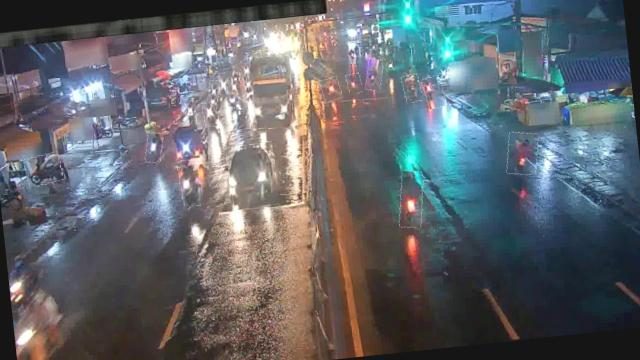Bike: (396, 170, 427, 229), (504, 130, 540, 176), (23, 153, 64, 187), (178, 159, 204, 208), (422, 75, 447, 109), (364, 58, 384, 91), (144, 132, 164, 164), (402, 73, 422, 103), (319, 77, 342, 102), (202, 101, 220, 127), (112, 116, 140, 132), (185, 99, 198, 126), (346, 74, 362, 94), (208, 80, 220, 103), (218, 72, 229, 95), (227, 92, 240, 110)
Car: (227, 142, 280, 210)
Truck: (245, 53, 296, 130)
